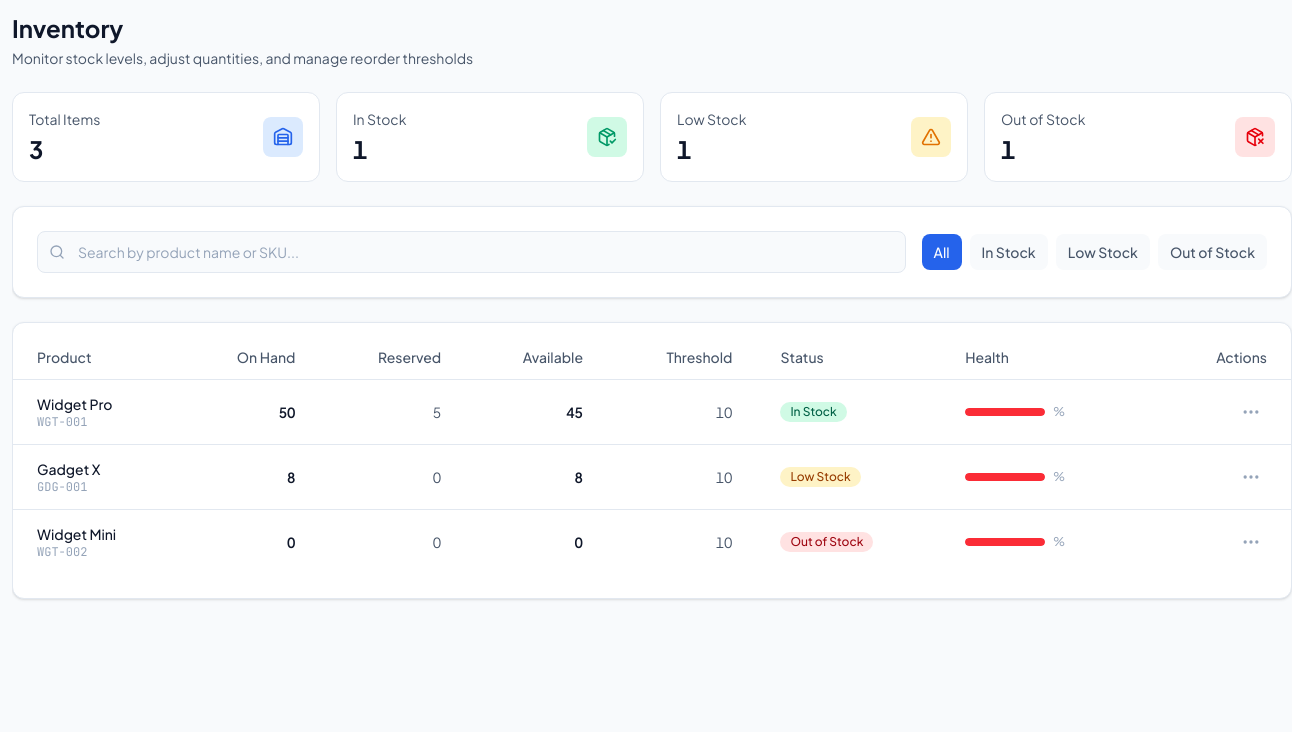
Scenario: InventoryListPage › filters items by product name when search text is entered
This screenshot has width=1292, height=732.
Type "Gadget" into the field.
click(471, 252); type("Gadget")  # box [37, 231, 906, 273]
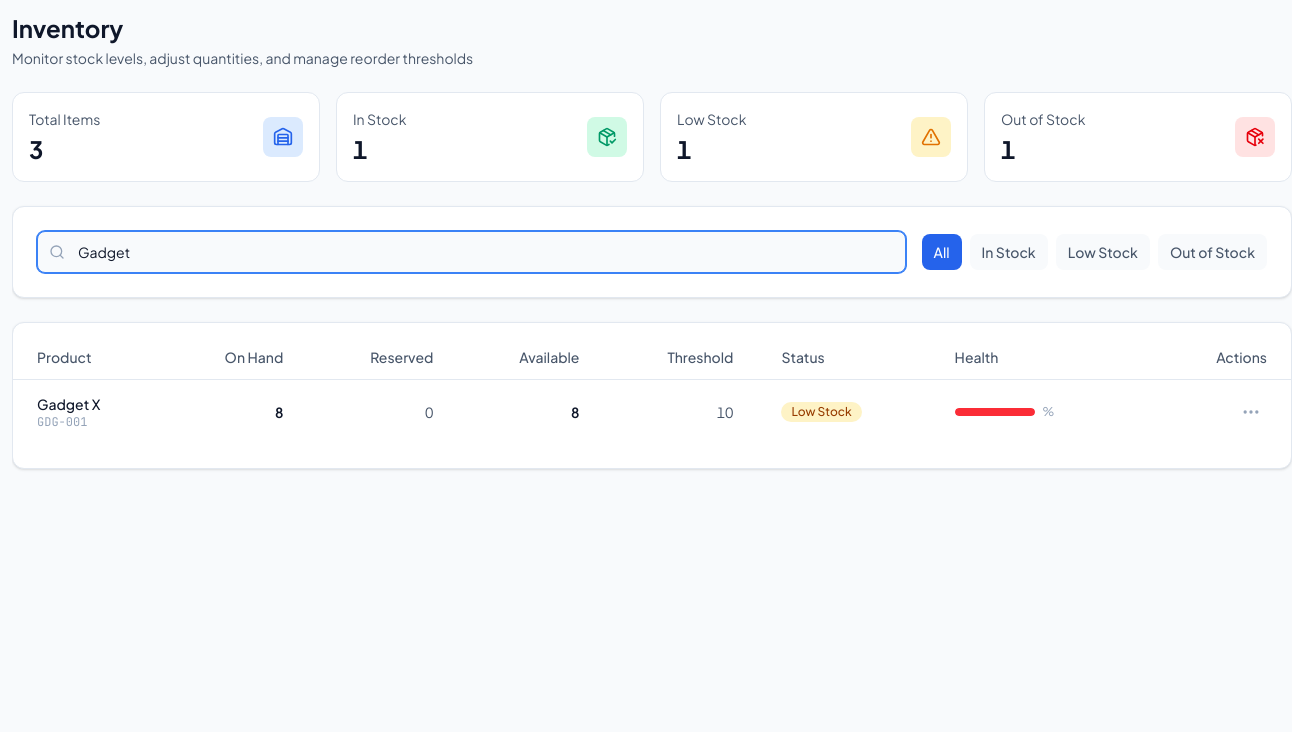
Check: the text "Gadget X" is shown, box [37, 395, 100, 413]
Check: the text "Widget Pro" is gone
